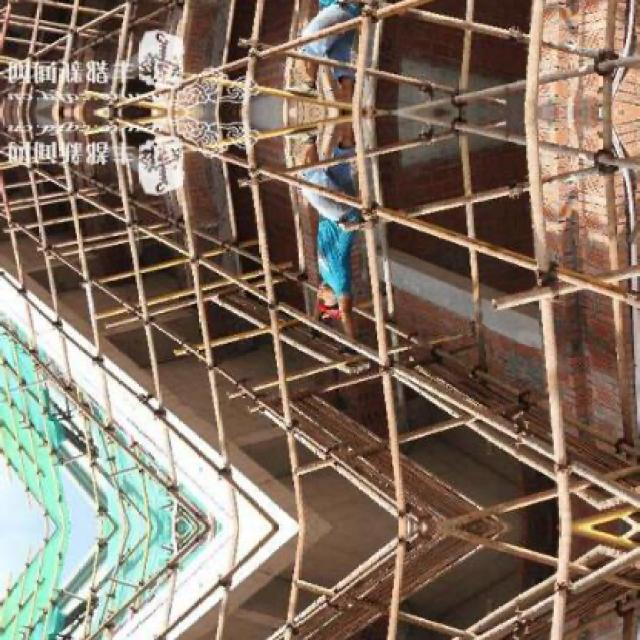con casco: (324, 290, 362, 333)
